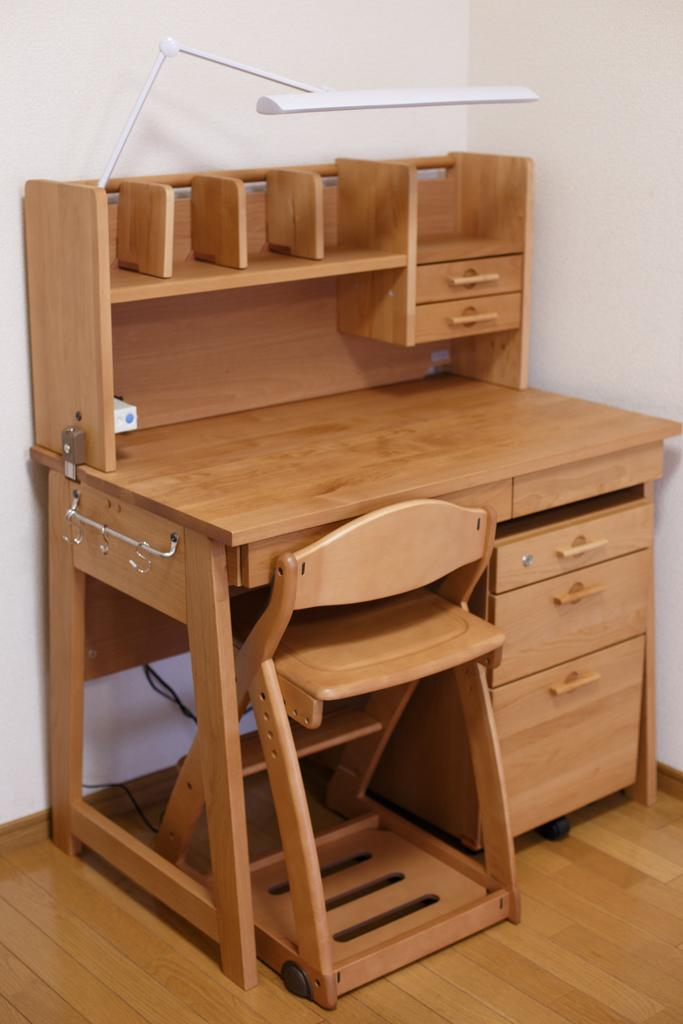cabinet_door: (499, 648, 640, 794), (502, 564, 648, 648), (503, 490, 653, 550), (421, 242, 522, 292), (415, 289, 520, 337)
handle: (548, 658, 601, 704), (557, 524, 614, 558), (554, 582, 606, 614), (450, 300, 500, 330), (448, 263, 500, 287)
